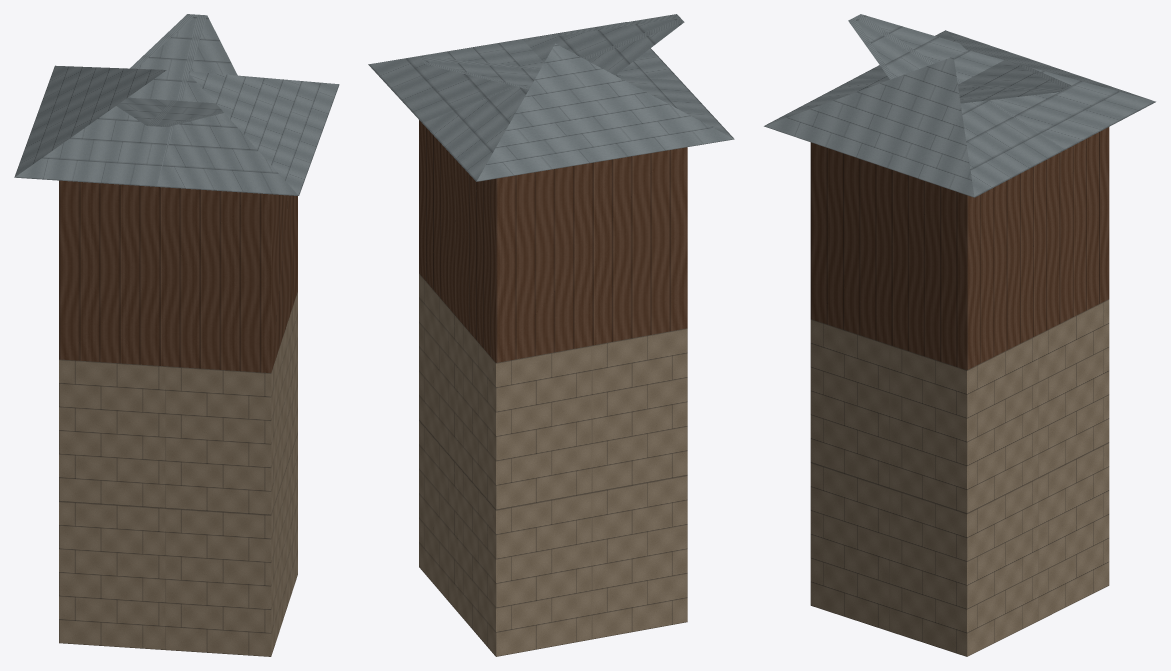
The model's file is bld_c33_47_236.gltf.
3 views of the same model, side by side, from view 1: azimuth 30°, elevation 25°; view 2: azimuth 150°, elevation 25°; view 3: azimuth 270°, elevation 25° (orthographic). The views are drawn at different scales.
Visible parts, largest first — view 1: bld_c33_47_236; view 2: bld_c33_47_236; view 3: bld_c33_47_236.
Part boxes in pixels (<box>): bld_c33_47_236: <box>14,14,339,656</box>; bld_c33_47_236: <box>368,14,734,656</box>; bld_c33_47_236: <box>764,14,1155,656</box>.
Bounding box in the file's own units: 5.89 × 8.9 × 5.84.
Materials: 3 (3 with a texture image).
